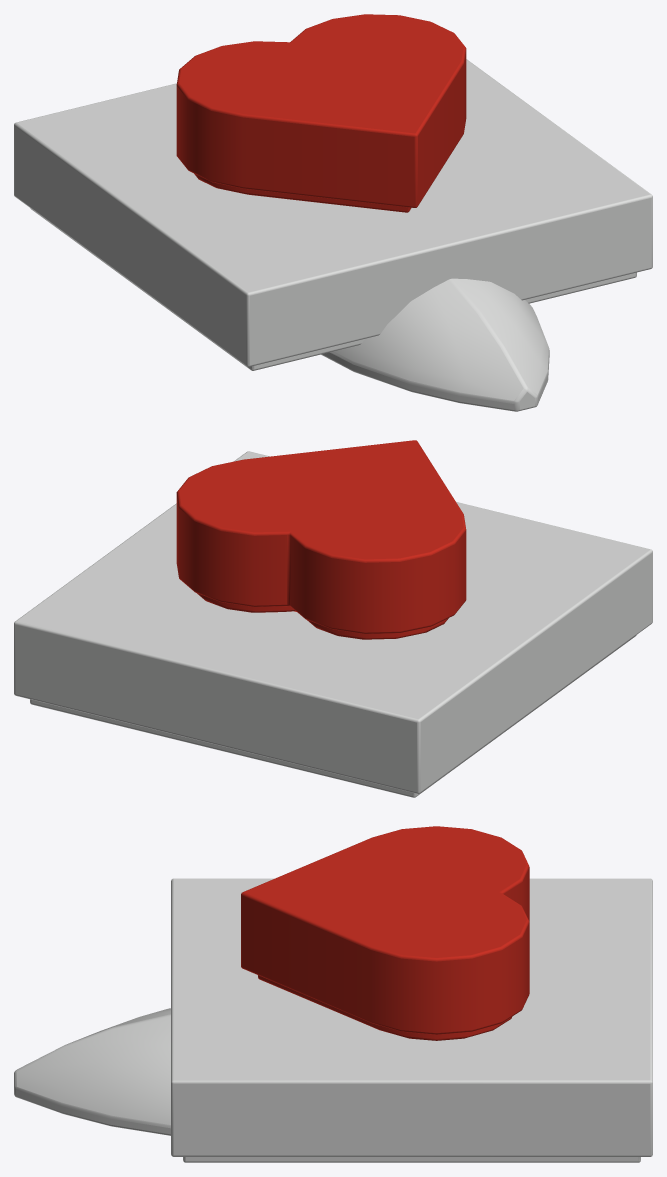
The model's file is heart.fbx.
3 renders of one model, top to bottom at view 1: azimuth 30°, elevation 25°; view 2: azimuth 150°, elevation 25°; view 3: azimuth 270°, elevation 25°, orthographic. The views are drawn at different scales.
Visible parts, largest first — view 1: heart; view 2: heart; view 3: heart.
Boxes of the visible parts, bbox=[...] form: heart: bbox=[14, 14, 652, 411]; heart: bbox=[14, 440, 652, 797]; heart: bbox=[14, 826, 652, 1162].
Bounding box in the file's own units: 40 × 18.34 × 53.04.
